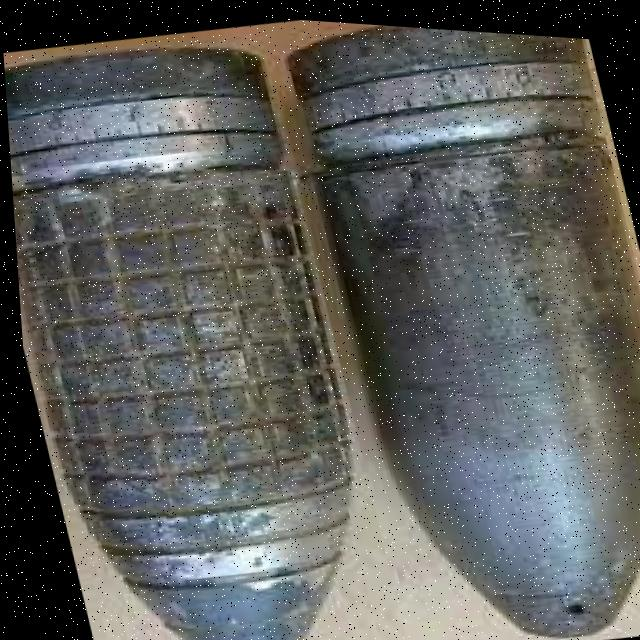grenade: (1, 12, 405, 640), (268, 14, 640, 640)
